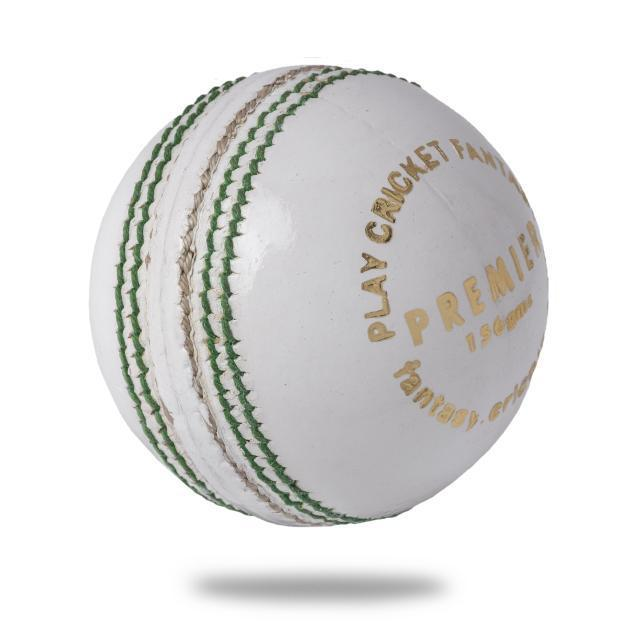cricket ball: (89, 64, 549, 528)
